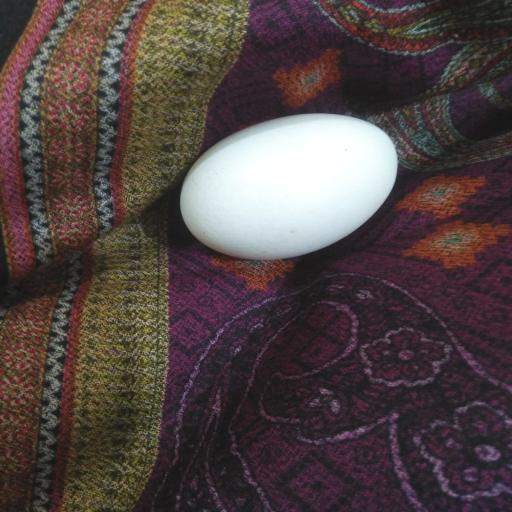telur: (171, 108, 405, 274)
